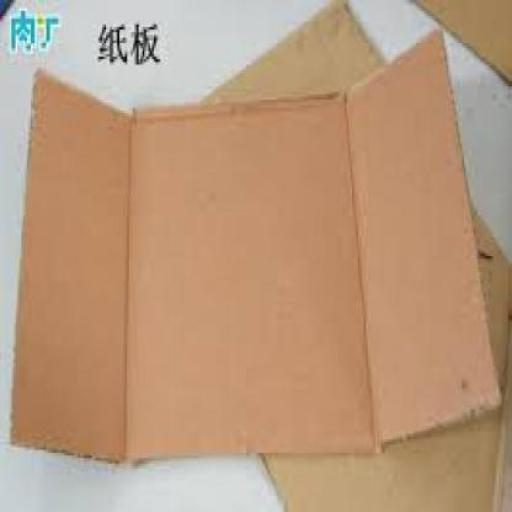cardboard: (8, 27, 498, 455), (190, 0, 510, 510), (123, 88, 375, 450), (347, 27, 499, 442), (7, 61, 123, 453), (414, 0, 510, 84)
